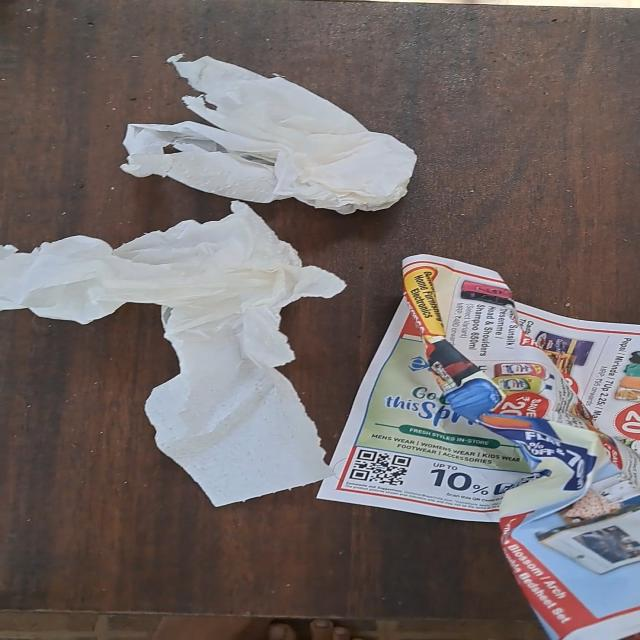Organik: (320, 248, 640, 640), (0, 194, 344, 514), (110, 43, 448, 215)
